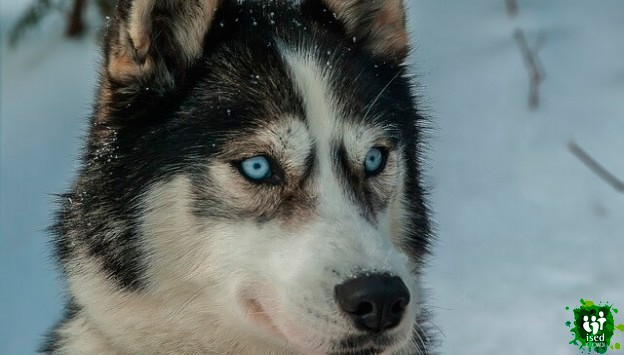husky: (83, 5, 443, 349)
